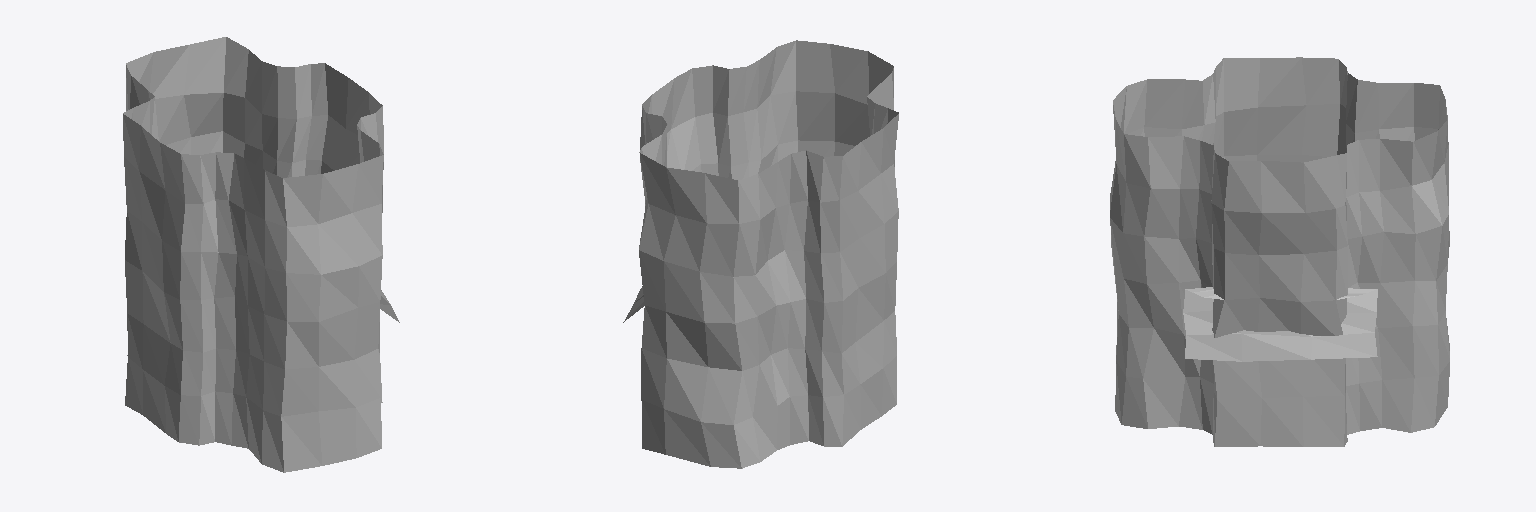
Rendered from world2.mtl.obj.
3 views of the same model, side by side, from view 1: azimuth 30°, elevation 25°; view 2: azimuth 150°, elevation 25°; view 3: azimuth 270°, elevation 25° (orthographic).
Visible parts, largest first — view 1: Cube; view 2: Cube; view 3: Cube.
Part boxes in pixels (bbox=[...]): Cube: bbox=[123, 37, 399, 472]; Cube: bbox=[623, 40, 898, 468]; Cube: bbox=[1110, 57, 1449, 446].
Size of the model in its own units: 36.62 by 49.39 by 51.06.